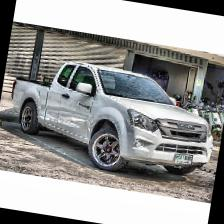NON-EV: (4, 49, 224, 188)
